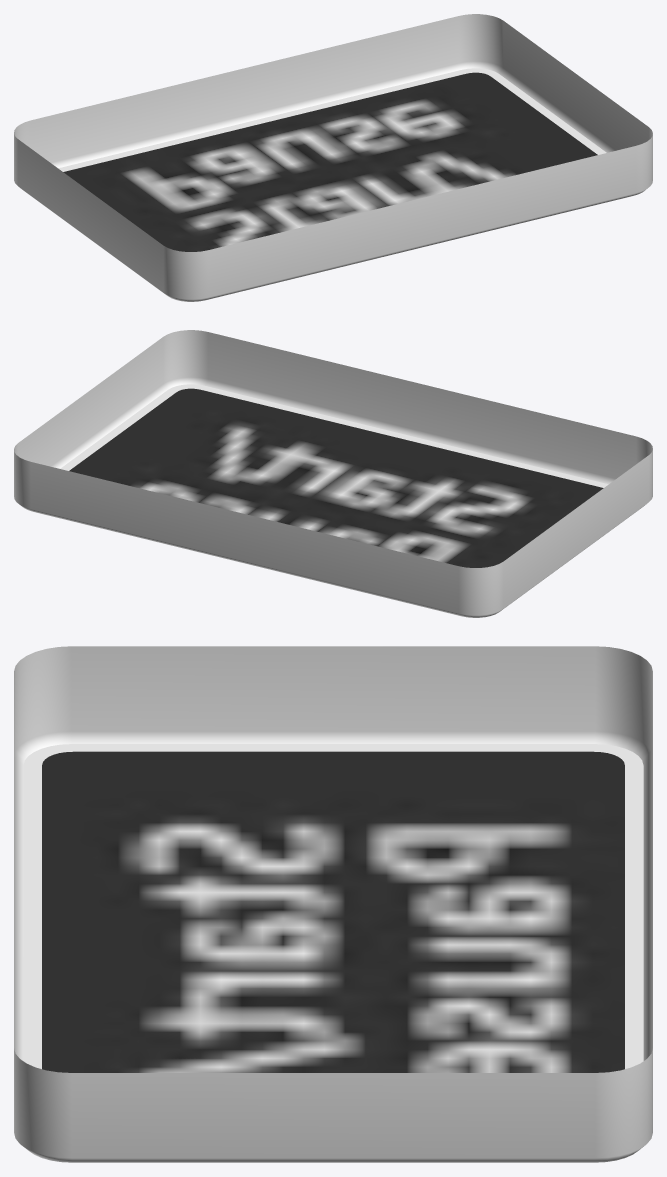
The model's file is button005.obj.
The picture shows the model from 3 angles, top to bottom: view 1: azimuth 30°, elevation 25°; view 2: azimuth 150°, elevation 25°; view 3: azimuth 270°, elevation 25°; orthographic projection. The views are drawn at different scales.
Visible parts, largest first — view 1: Microwave045_Button005; view 2: Microwave045_Button005; view 3: Microwave045_Button005.
Boxes of the visible parts, box(x1,y1,x2,y2) form: Microwave045_Button005: box(14, 14, 652, 301); Microwave045_Button005: box(14, 330, 652, 617); Microwave045_Button005: box(14, 646, 652, 1162).
Size of the model in its own units: 0.0235 by 0.00241 by 0.0149.
Materials: 1 (1 with a texture image).
